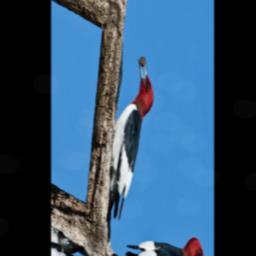Woodpecker: (82, 49, 176, 229)
